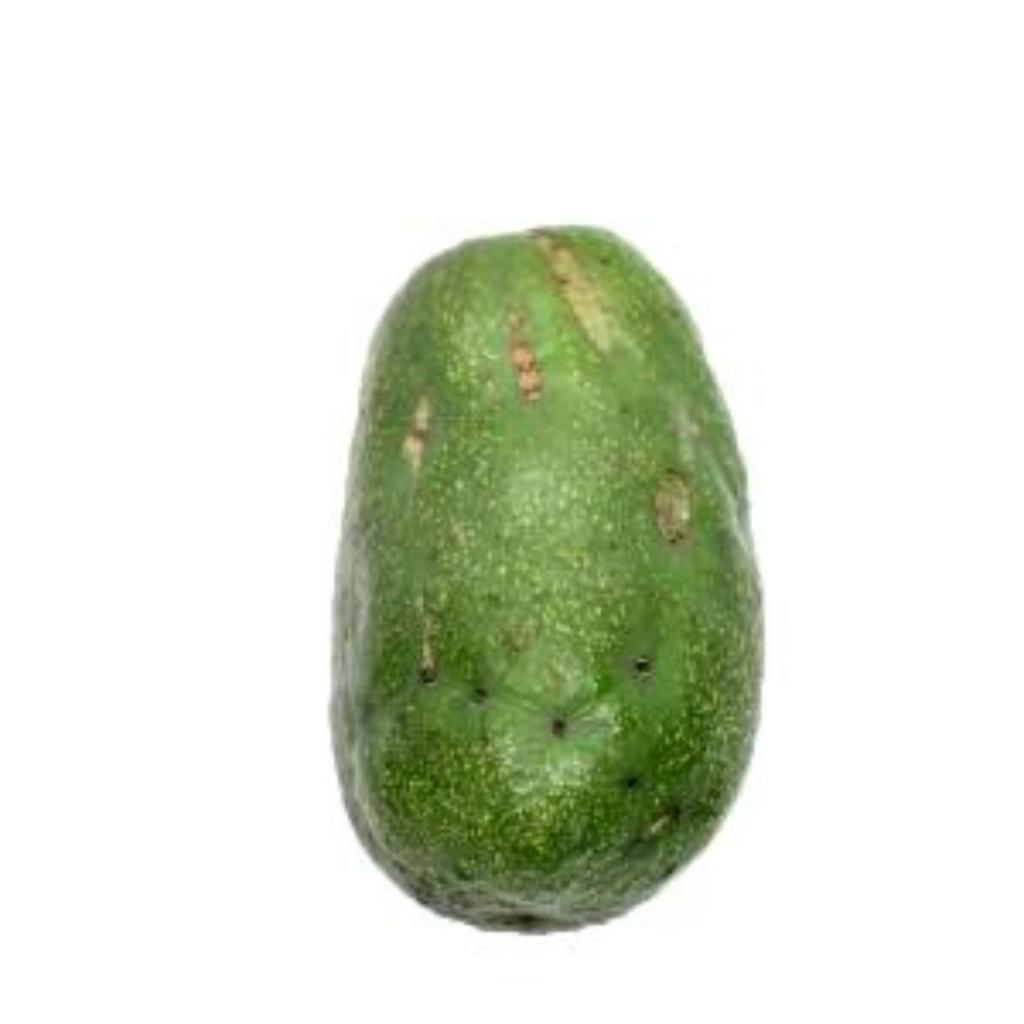cercospora_spot: (302, 188, 784, 942)
